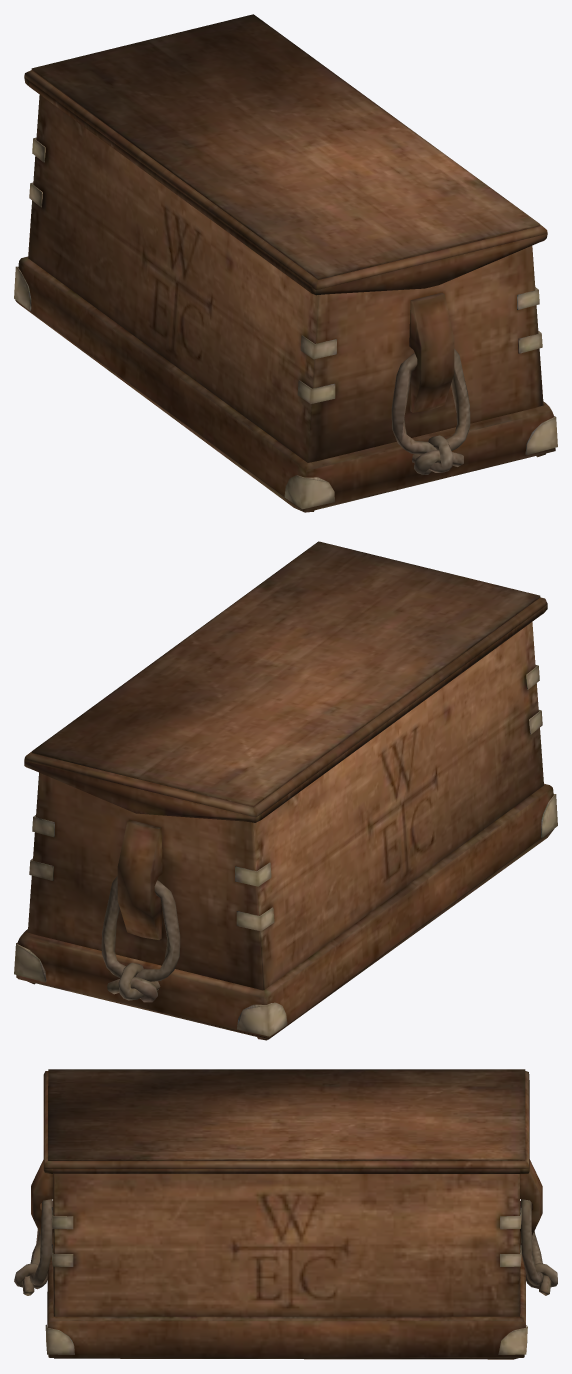
File: wooden_crate_02.glb
The picture shows the model from 3 angles, top to bottom: view 1: azimuth 30°, elevation 25°; view 2: azimuth 150°, elevation 25°; view 3: azimuth 270°, elevation 25°; orthographic projection. The views are drawn at different scales.
Visible parts, largest first — view 1: wooden_crate_02_crate; view 2: wooden_crate_02_crate; view 3: wooden_crate_02_crate.
Part boxes in pixels (box(x1,y1,x2,y2)): wooden_crate_02_crate: box(14, 14, 557, 512); wooden_crate_02_crate: box(14, 541, 557, 1040); wooden_crate_02_crate: box(14, 1069, 557, 1359).
Size of the model in its own units: 0.5291 by 0.464 by 1.16.
Materials: 1 (1 with a texture image).
